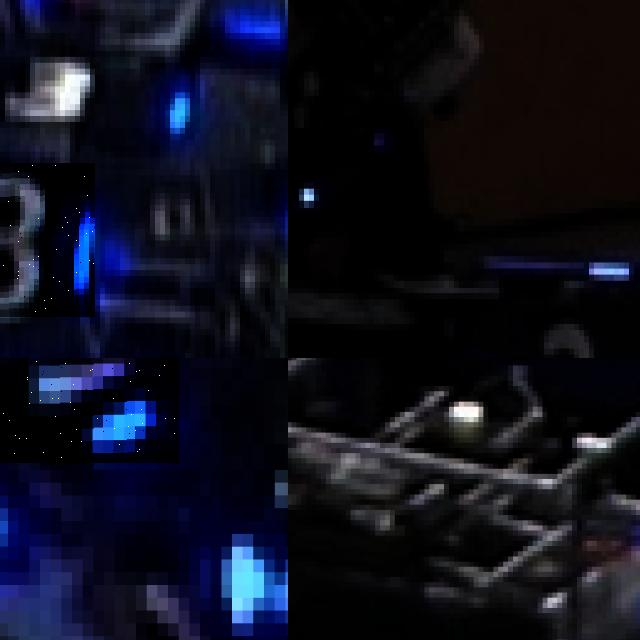B3: (0, 163, 95, 317), (464, 305, 640, 358)
B4: (0, 358, 178, 463), (173, 482, 288, 640)
